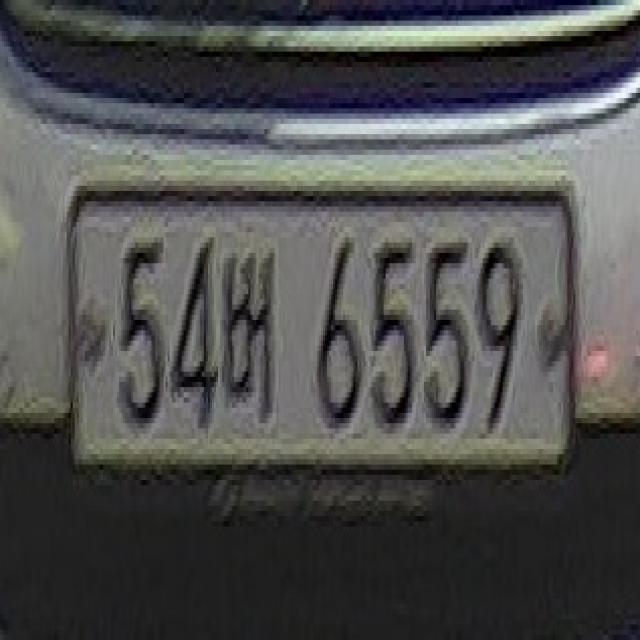4: (168, 212, 220, 449)
5: (422, 242, 476, 444), (119, 222, 166, 428), (371, 242, 416, 428)
6: (311, 227, 363, 434)
9: (466, 242, 529, 433)
beo: (220, 227, 285, 444)
license_plate: (66, 160, 590, 511)
